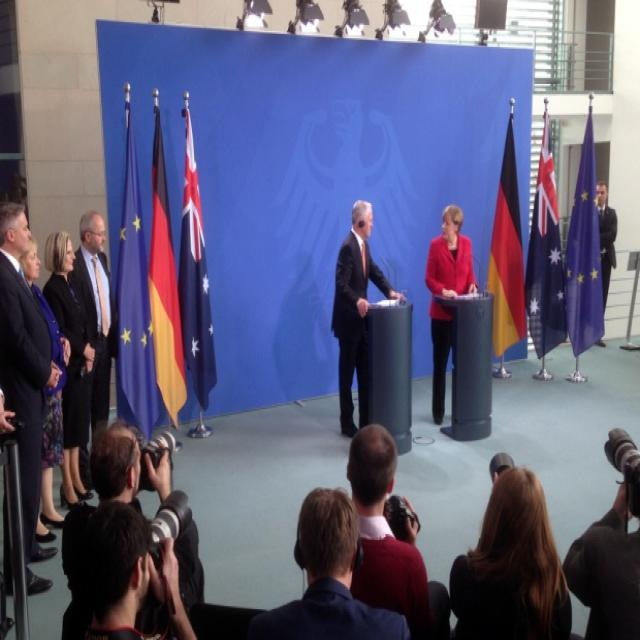body: (61, 418, 206, 638), (241, 484, 412, 640), (0, 199, 64, 597), (447, 463, 574, 640), (328, 196, 409, 440), (344, 421, 434, 640), (80, 488, 200, 640), (18, 230, 72, 544), (39, 227, 97, 512), (66, 209, 121, 494), (561, 451, 640, 638), (422, 202, 482, 426), (0, 382, 20, 638), (594, 178, 618, 349)
